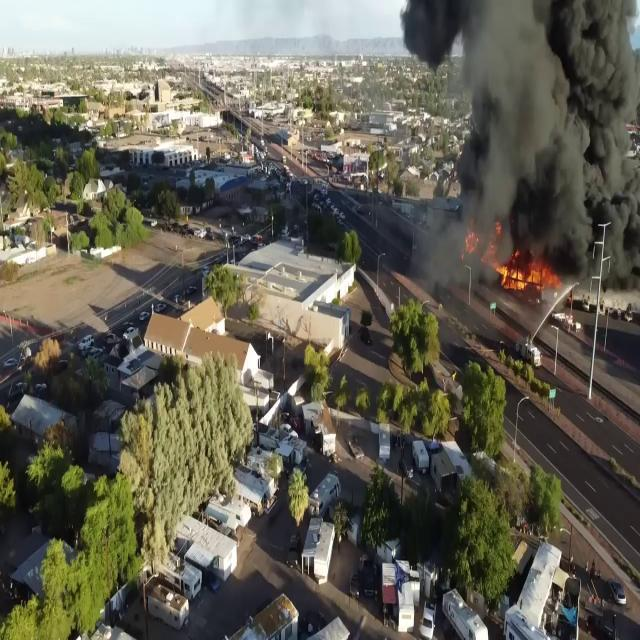Fire: (488, 258, 562, 294)
Smoke: (415, 0, 640, 291)
